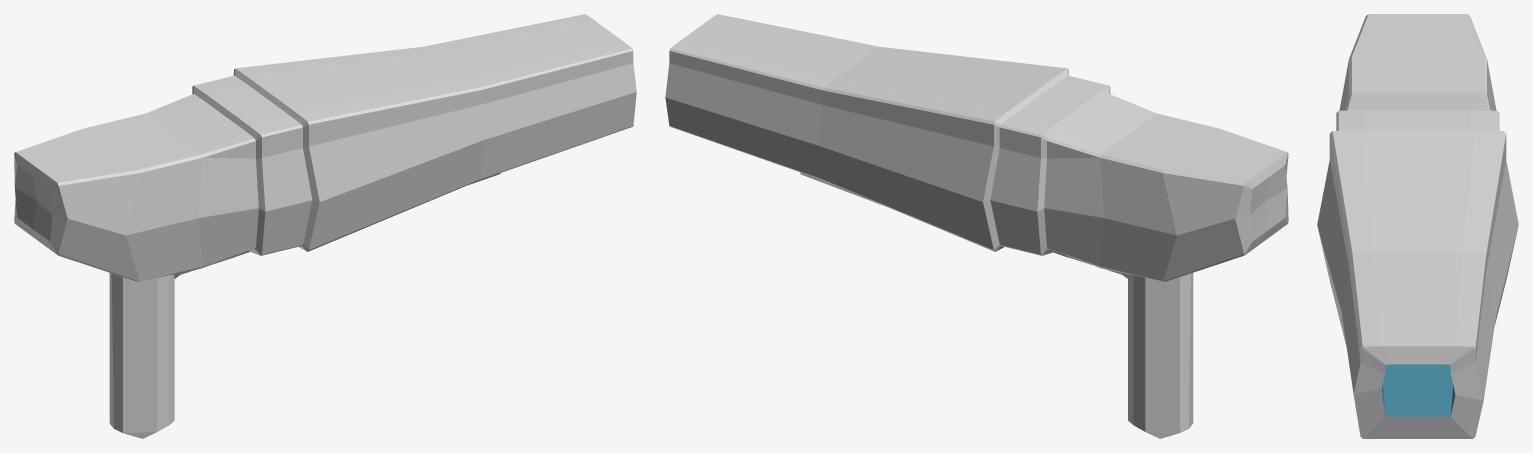
File: Shotgun.fbx
3 views of the same model, side by side, from view 1: azimuth 30°, elevation 25°; view 2: azimuth 150°, elevation 25°; view 3: azimuth 270°, elevation 25° (orthographic). The views are drawn at different scales.
Parts seen in each view (by area): view 1: Shotgun; view 2: Shotgun; view 3: Shotgun.
Part boxes in pixels (x1,y1,x2,y2): Shotgun: (14,14,636,438); Shotgun: (665,14,1288,438); Shotgun: (1317,14,1518,438).
Bounding box in the file's own units: 0.3726 × 0.1925 × 0.0955.
